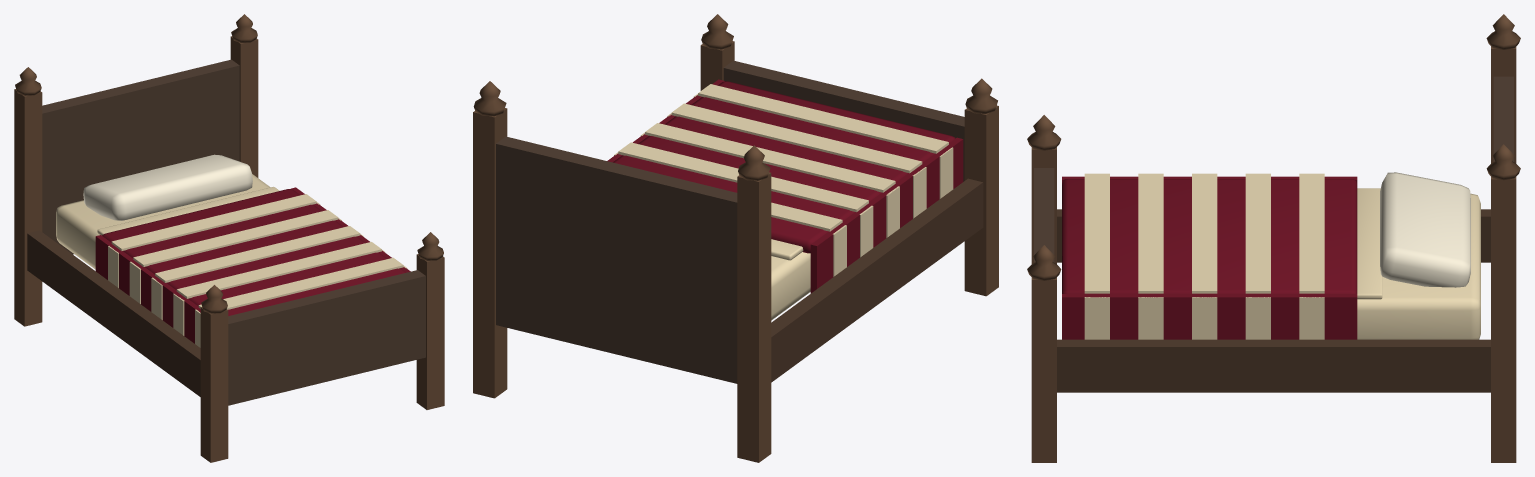
File: bed.glb
3 renders of one model, left to right at view 1: azimuth 30°, elevation 25°; view 2: azimuth 150°, elevation 25°; view 3: azimuth 270°, elevation 25°, orthographic. The views are drawn at different scales.
Parts seen in each view (by area): view 1: bed; view 2: bed; view 3: bed.
Boxes of the visible parts, x1,y1,x2,y2 form: bed: (14,14,444,462); bed: (473,14,998,462); bed: (1027,14,1520,462).
Bounding box in the file's own units: 0.678 × 0.685 × 0.978.
